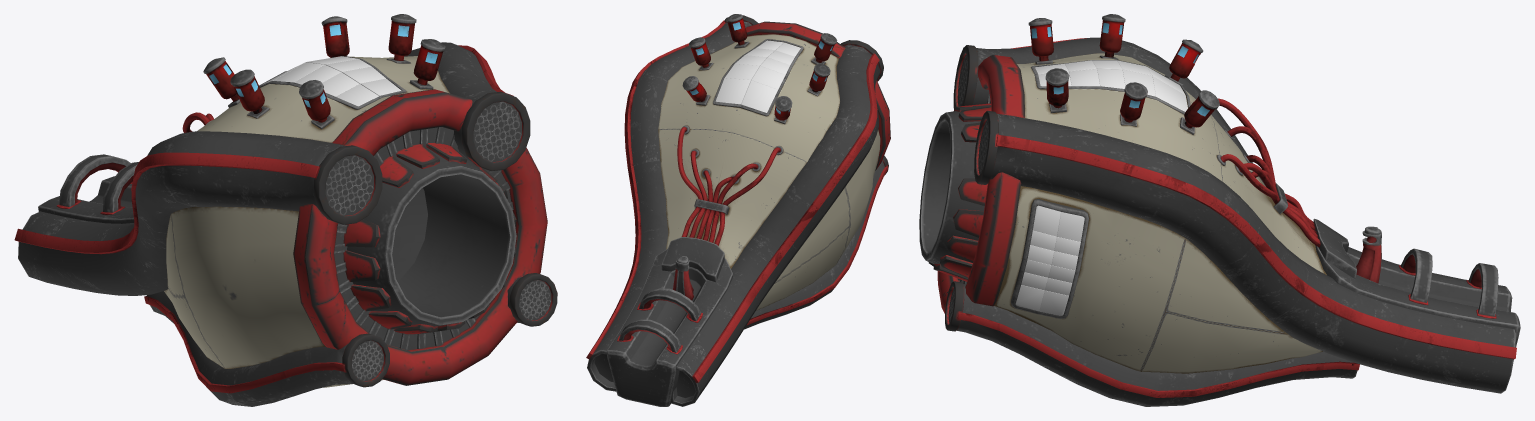
File: nade_launcher_actions.fbx
3 views of the same model, side by side, from view 1: azimuth 30°, elevation 25°; view 2: azimuth 150°, elevation 25°; view 3: azimuth 270°, elevation 25° (orthographic). The views are drawn at different scales.
Parts seen in each view (by area): view 1: shell_low, vent_hatch_A1, vent_hatch_A2; view 2: shell_low, vent_hatch_A1, vent_hatch_A2; view 3: shell_low, vent_hatch_B1, vent_hatch_B2, vent_hatch_A2, vent_hatch_A1.
Part boxes in pixels (x1=…): shell_low: x1=14, y1=14, x2=557, y2=406; vent_hatch_A1: x1=261, y1=62, x2=378, y2=106; vent_hatch_A2: x1=306, y1=56, x2=401, y2=95; shell_low: x1=586, y1=14, x2=890, y2=406; vent_hatch_A1: x1=741, y1=42, x2=800, y2=112; vent_hatch_A2: x1=715, y1=40, x2=783, y2=104; shell_low: x1=919, y1=14, x2=1520, y2=406; vent_hatch_B1: x1=1015, y1=205, x2=1060, y2=310; vent_hatch_B2: x1=1039, y1=212, x2=1084, y2=315; vent_hatch_A2: x1=1038, y1=69, x2=1187, y2=111; vent_hatch_A1: x1=1035, y1=60, x2=1185, y2=94.
Bounding box in the file's own units: 72.57 × 79.02 × 122.
